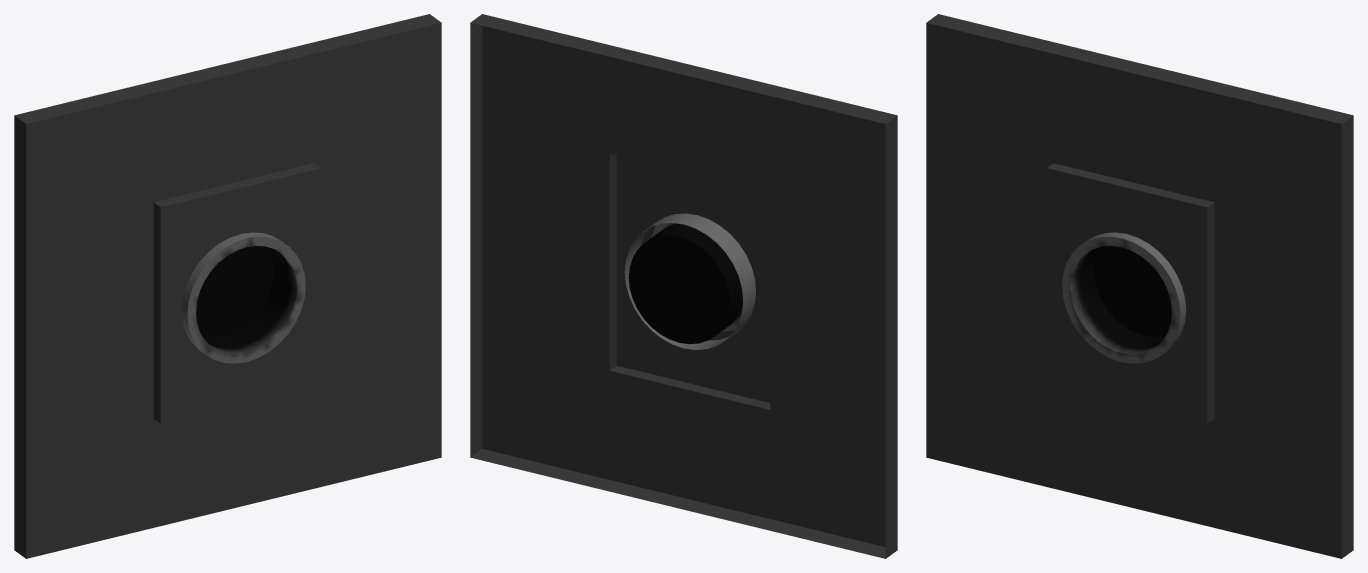
File: fire_trap.gltf
The picture shows the model from 3 angles, left to right: view 1: azimuth 30°, elevation 25°; view 2: azimuth 150°, elevation 25°; view 3: azimuth 330°, elevation 25°; orthographic projection.
Parts seen in each view (by area): view 1: Plane; view 2: Plane; view 3: Plane.
Boxes of the visible parts, x1,y1,x2,y2 form: Plane: (14,14,441,558); Plane: (470,14,897,558); Plane: (926,14,1353,558).
Size of the model in its own units: 2 by 2 by 0.2058.
Materials: 1 (1 with a texture image).
